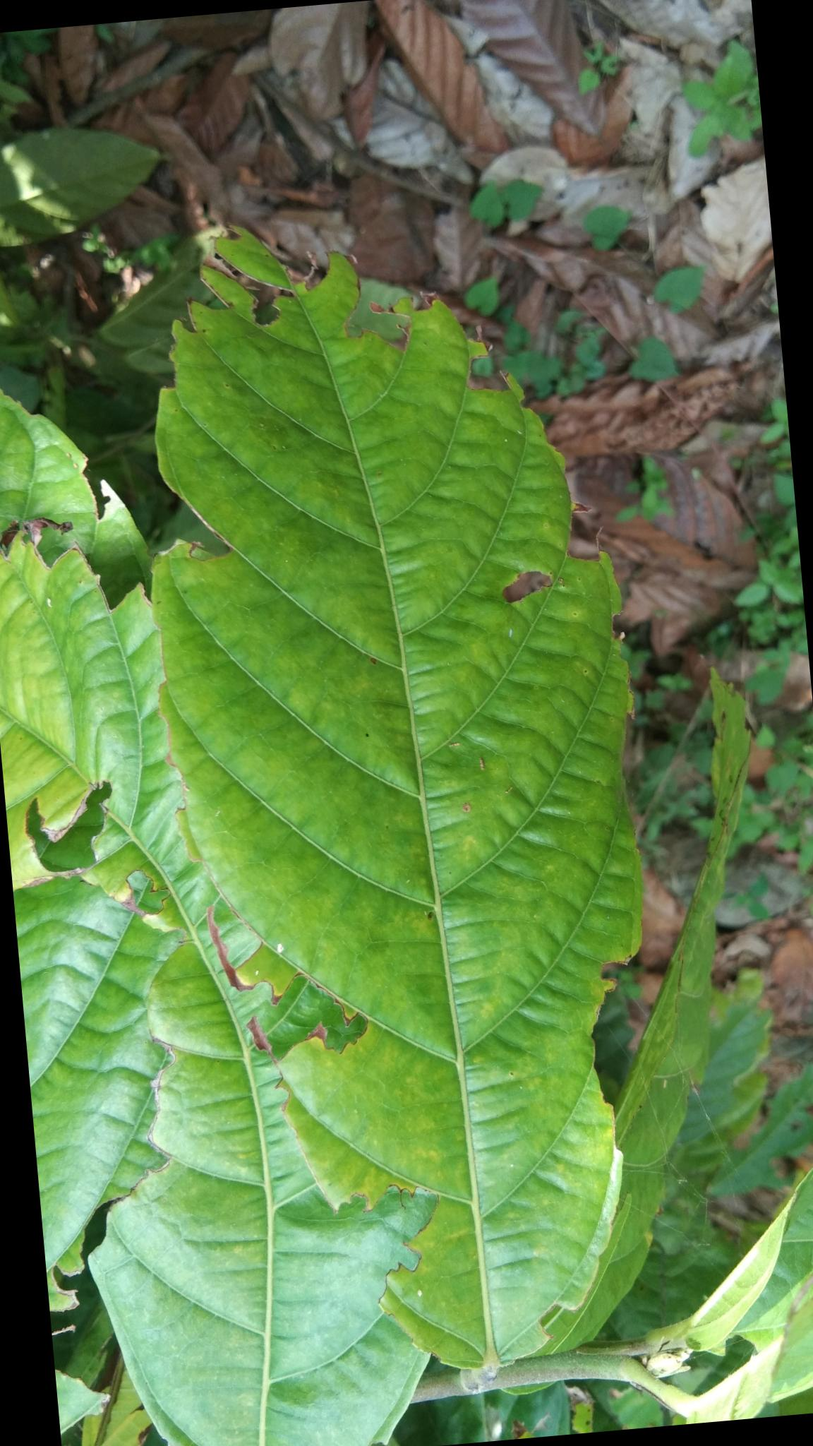Fosforo: (118, 207, 662, 1420)
